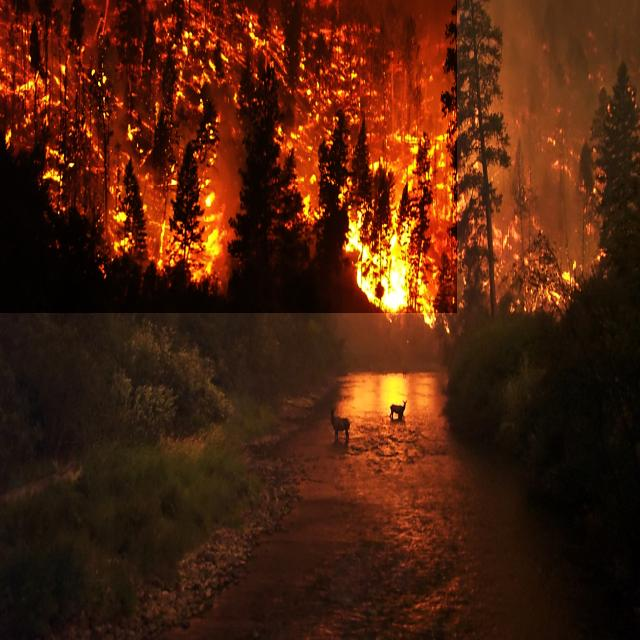Fire: (0, 0, 457, 313)
